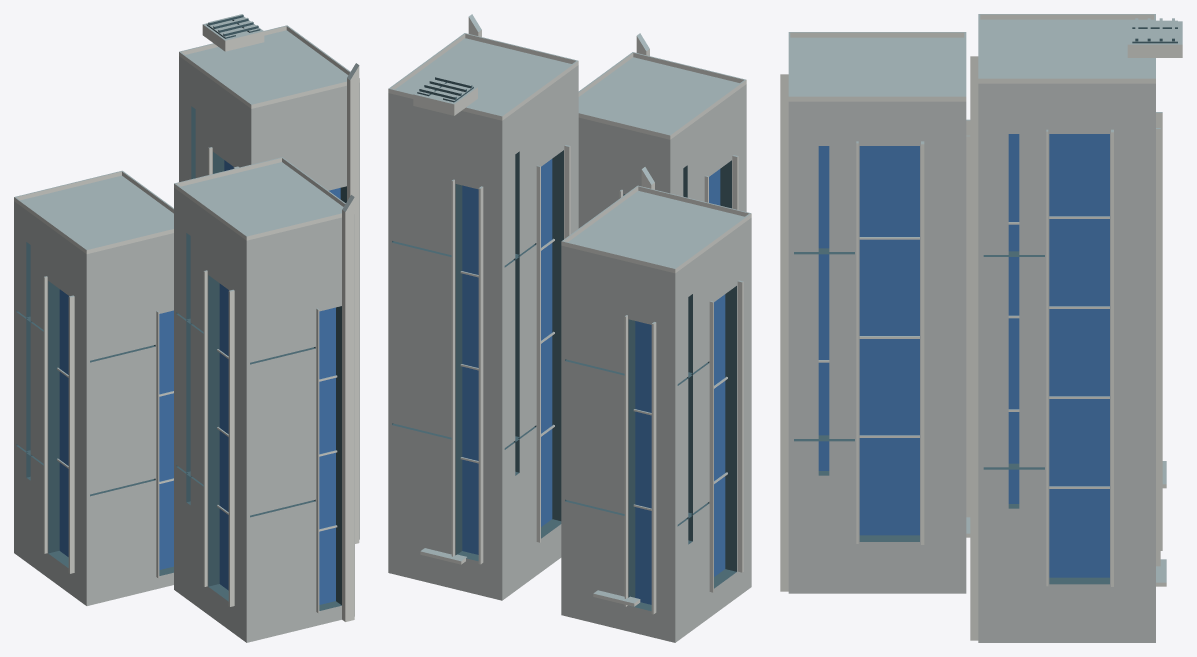
The model's file is 13_Dreifachturm.obj.
3 views of the same model, side by side, from view 1: azimuth 30°, elevation 25°; view 2: azimuth 150°, elevation 25°; view 3: azimuth 270°, elevation 25° (orthographic). The views are drawn at different scales.
Size of the model in its own units: 0.6184 by 1 by 0.6241.
